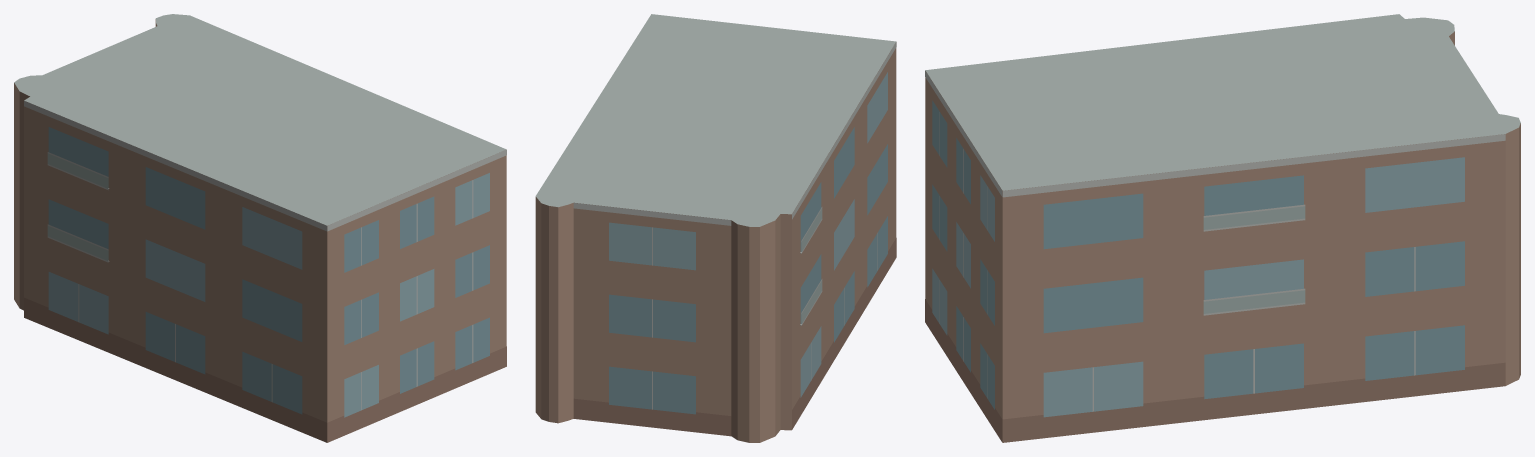
File: survey-upis-32720729.glb
3 views of the same model, side by side, from view 1: azimuth 30°, elevation 25°; view 2: azimuth 150°, elevation 25°; view 3: azimuth 270°, elevation 25° (orthographic). The views are drawn at different scales.
Visible parts, largest first — view 1: survey-upis-32720729.tmp; view 2: survey-upis-32720729.tmp; view 3: survey-upis-32720729.tmp.
Boxes of the visible parts, box(x1,y1,x2,y2) form: survey-upis-32720729.tmp: box(14, 14, 506, 442); survey-upis-32720729.tmp: box(535, 14, 896, 442); survey-upis-32720729.tmp: box(925, 14, 1520, 442).
Size of the model in its own units: 13.77 by 9.15 by 19.6.
